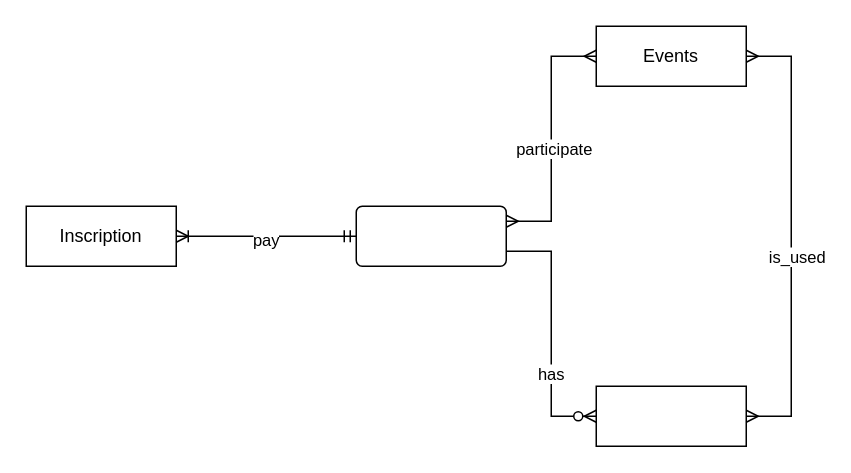
The diagram is 851 pixels wide and 473 high, and some of its shapes have lost their labels. The box of each missing label's shape, as (x1, y1, x2, y2) in pixels:
Material: (595, 385, 746, 446)
User: (355, 205, 506, 266)
